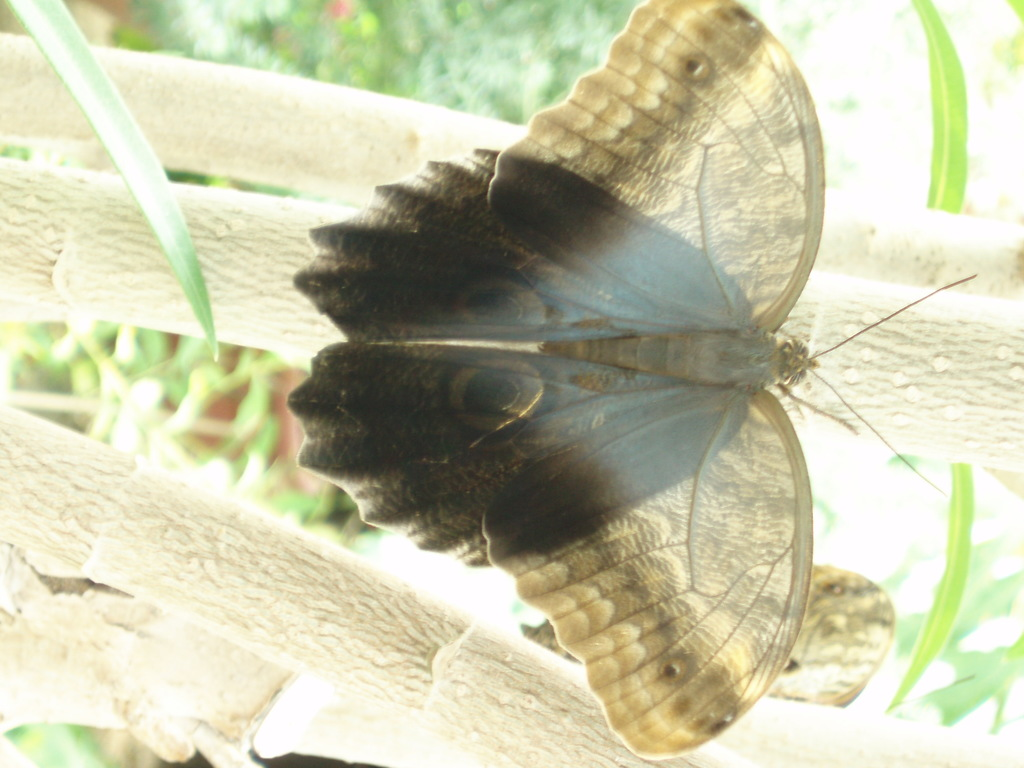Butterfly: (267, 1, 861, 767)
